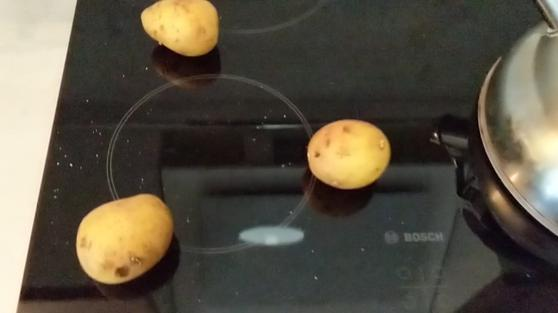potato: (74, 194, 177, 285), (305, 117, 393, 192), (127, 1, 221, 59)
